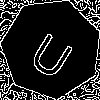U: (26, 23, 81, 82)
